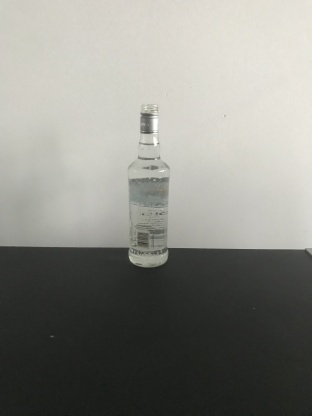nakretka: (138, 101, 160, 136)
